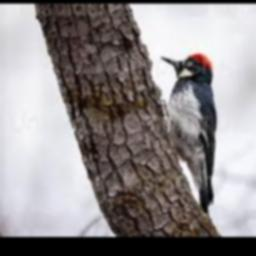Woodpecker: (160, 53, 216, 215)
